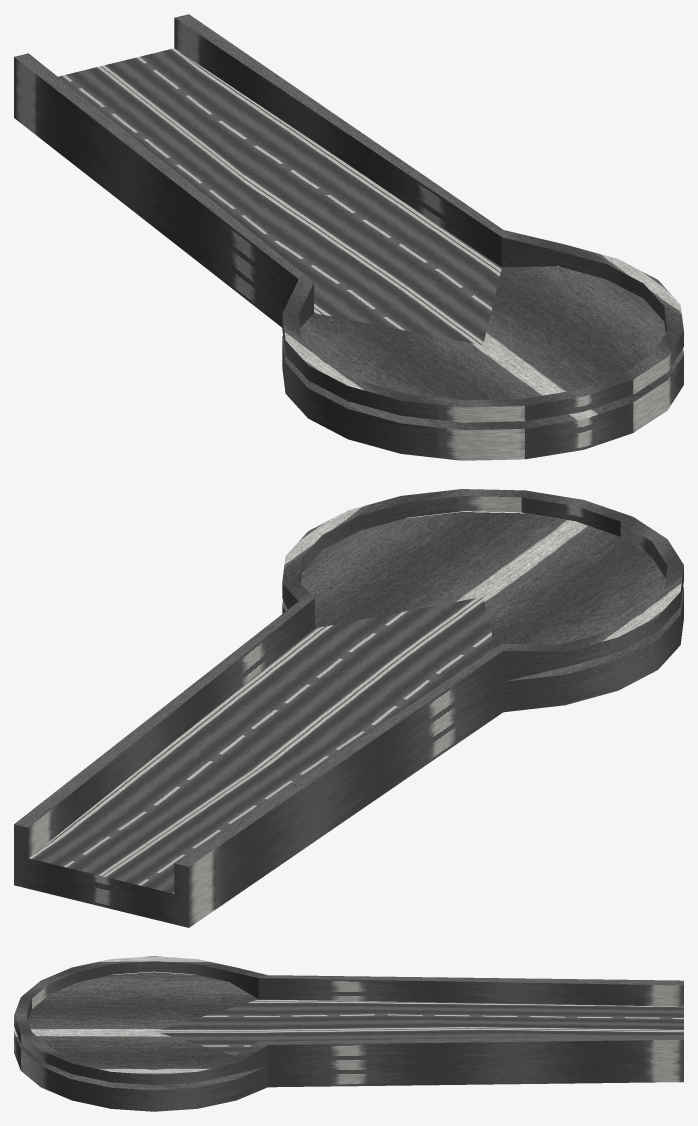
The model's file is N-Finish.obj.
3 renders of one model, top to bottom at view 1: azimuth 30°, elevation 25°; view 2: azimuth 150°, elevation 25°; view 3: azimuth 270°, elevation 25°, orthographic. The views are drawn at different scales.
Visible parts, largest first — view 1: polySurface13; view 2: polySurface13; view 3: polySurface13.
Boxes of the visible parts, x1=… form: polySurface13: x1=14, y1=14, x2=683, y2=460; polySurface13: x1=14, y1=489, x2=683, y2=927; polySurface13: x1=14, y1=956, x2=683, y2=1111.
Bounding box in the file's own units: 945 × 159 × 2258.
Materials: 1 (1 with a texture image).
